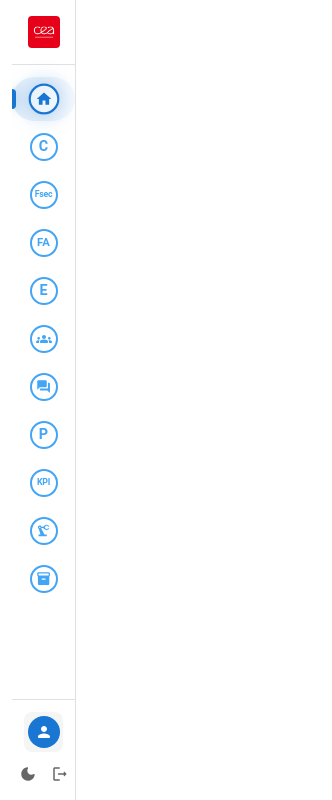
Test case: Sidebar — flyout en mode replié › navigue directement pour une rubrique sans sous-item
Click the button named "Campagnes".
click(44, 147)  # box [30, 133, 58, 161]
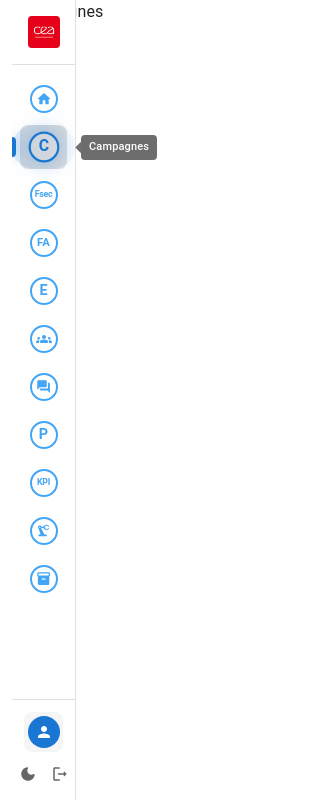
Check: the text with test id "pathname" reads "/campagnes", box [12, 2, 104, 21]
